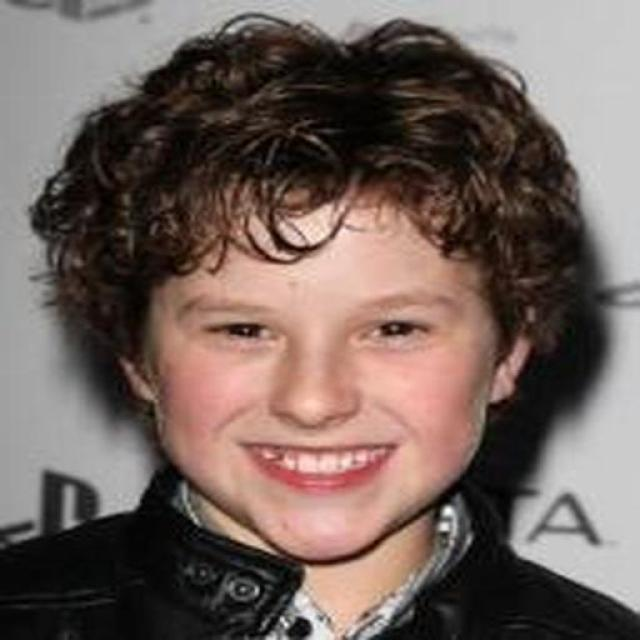bareface: (124, 111, 509, 560)
